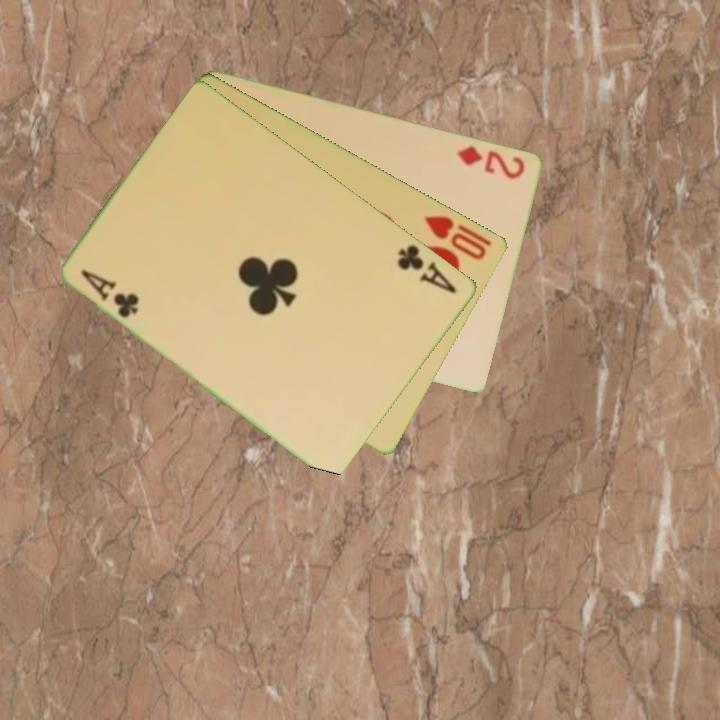10h: (421, 211, 495, 263)
2d: (454, 142, 529, 182)
Ac: (394, 240, 460, 296), (77, 266, 143, 321)
